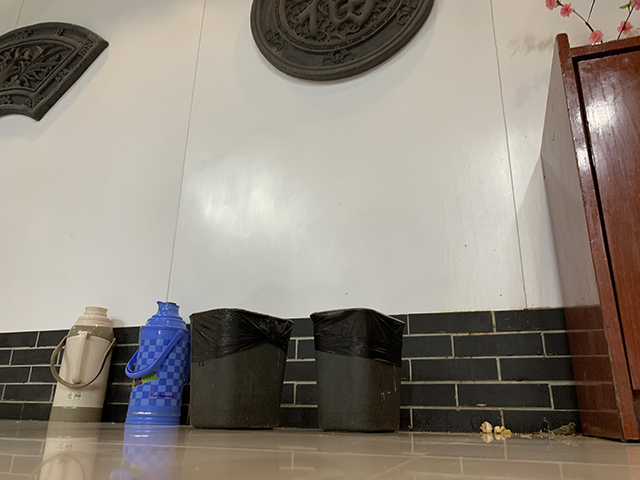trashcan: (188, 305, 295, 430), (309, 307, 407, 435)
